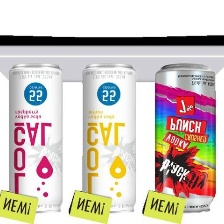can: (73, 59, 144, 217), (149, 57, 219, 217), (4, 58, 66, 217)
